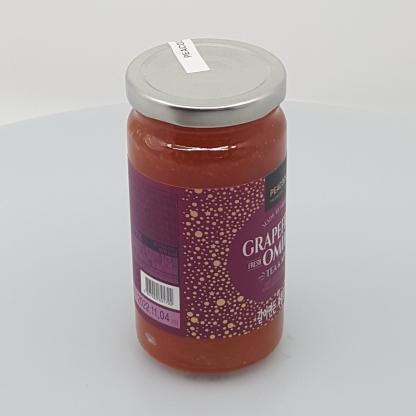---------------400G: (125, 37, 287, 377)
